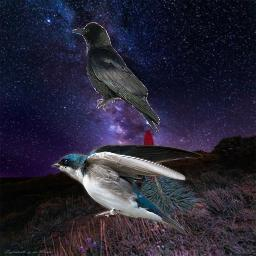Crow: (71, 22, 160, 132)
Swallow: (51, 142, 203, 235)
